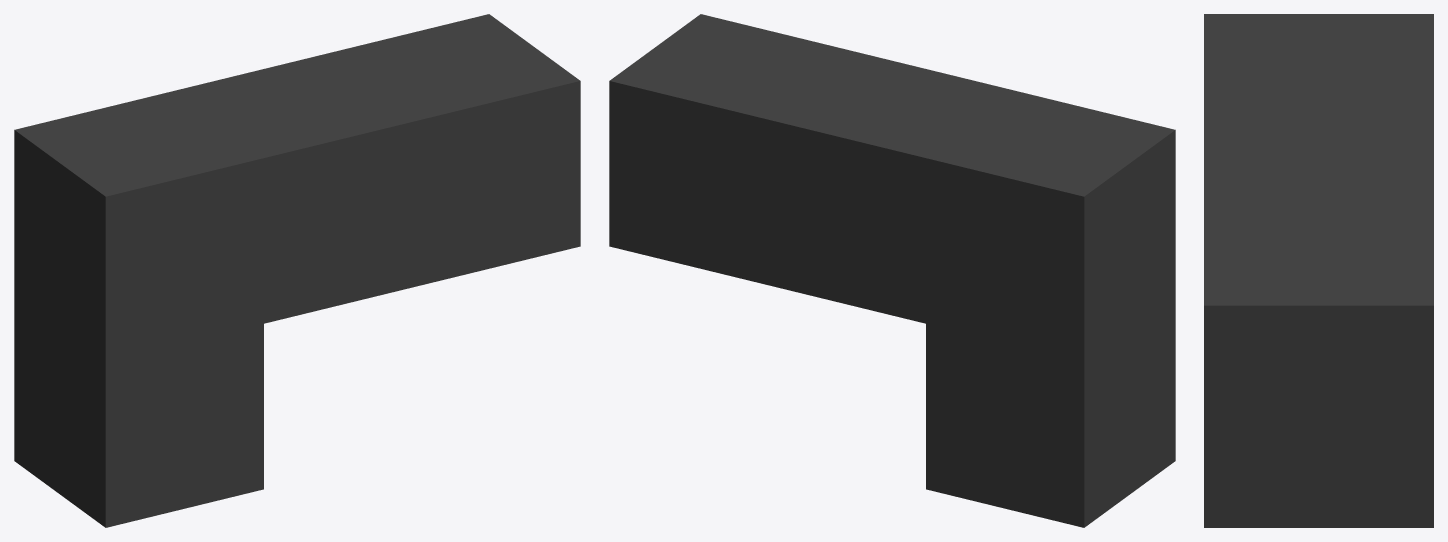
Rendered from gun.glb.
3 renders of one model, left to right at view 1: azimuth 30°, elevation 25°; view 2: azimuth 150°, elevation 25°; view 3: azimuth 270°, elevation 25°, orthographic. The views are drawn at different scales.
Parts seen in each view (by area): view 1: Cube; view 2: Cube; view 3: Cube.
Part boxes in pixels (x1,y1,x2,y2): Cube: (14, 14, 580, 527); Cube: (609, 14, 1175, 527); Cube: (1204, 14, 1433, 527).
Size of the model in its own units: 6 by 4 by 2.
Materials: 1 (1 with a texture image).
